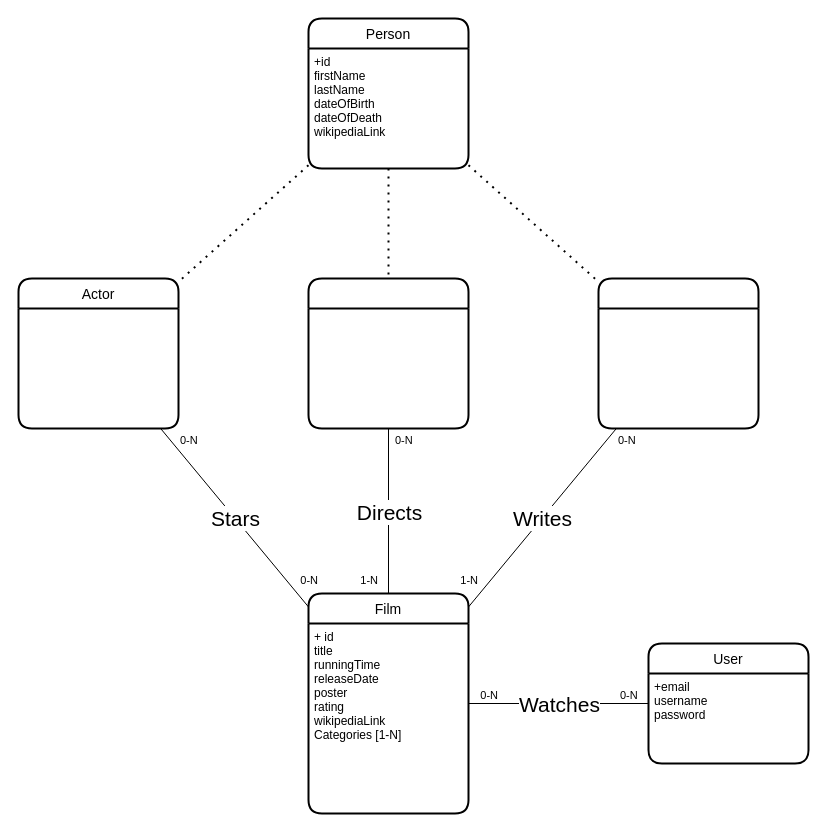
Some shapes in this 826 by 831 pixel diagram are drawn without their labels. Here are the shapes that lost their labels. From the top down, the centre of each, then its label:
pixel 388 353: Director
pixel 678 353: Writer
